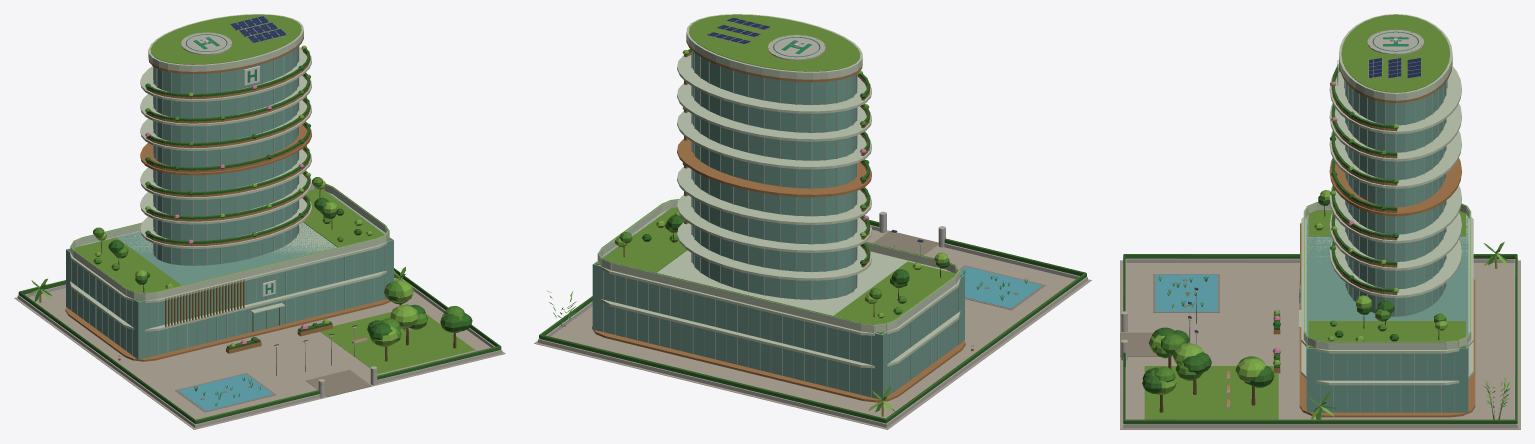
File: hospital.glb
3 renders of one model, left to right at view 1: azimuth 30°, elevation 25°; view 2: azimuth 150°, elevation 25°; view 3: azimuth 270°, elevation 25°, orthographic. The views are drawn at different scales.
Parts seen in each view (by area): view 1: body, windows; view 2: body, windows; view 3: body, windows.
Part boxes in pixels (x1,y1,x2,y2): body: (14,14,505,429); windows: (71,32,388,384); body: (534,14,1091,429); windows: (598,35,959,324); body: (1120,14,1520,429); windows: (1121,29,1470,344).
Bounding box in the file's own units: 48 × 39.12 × 47.9.
